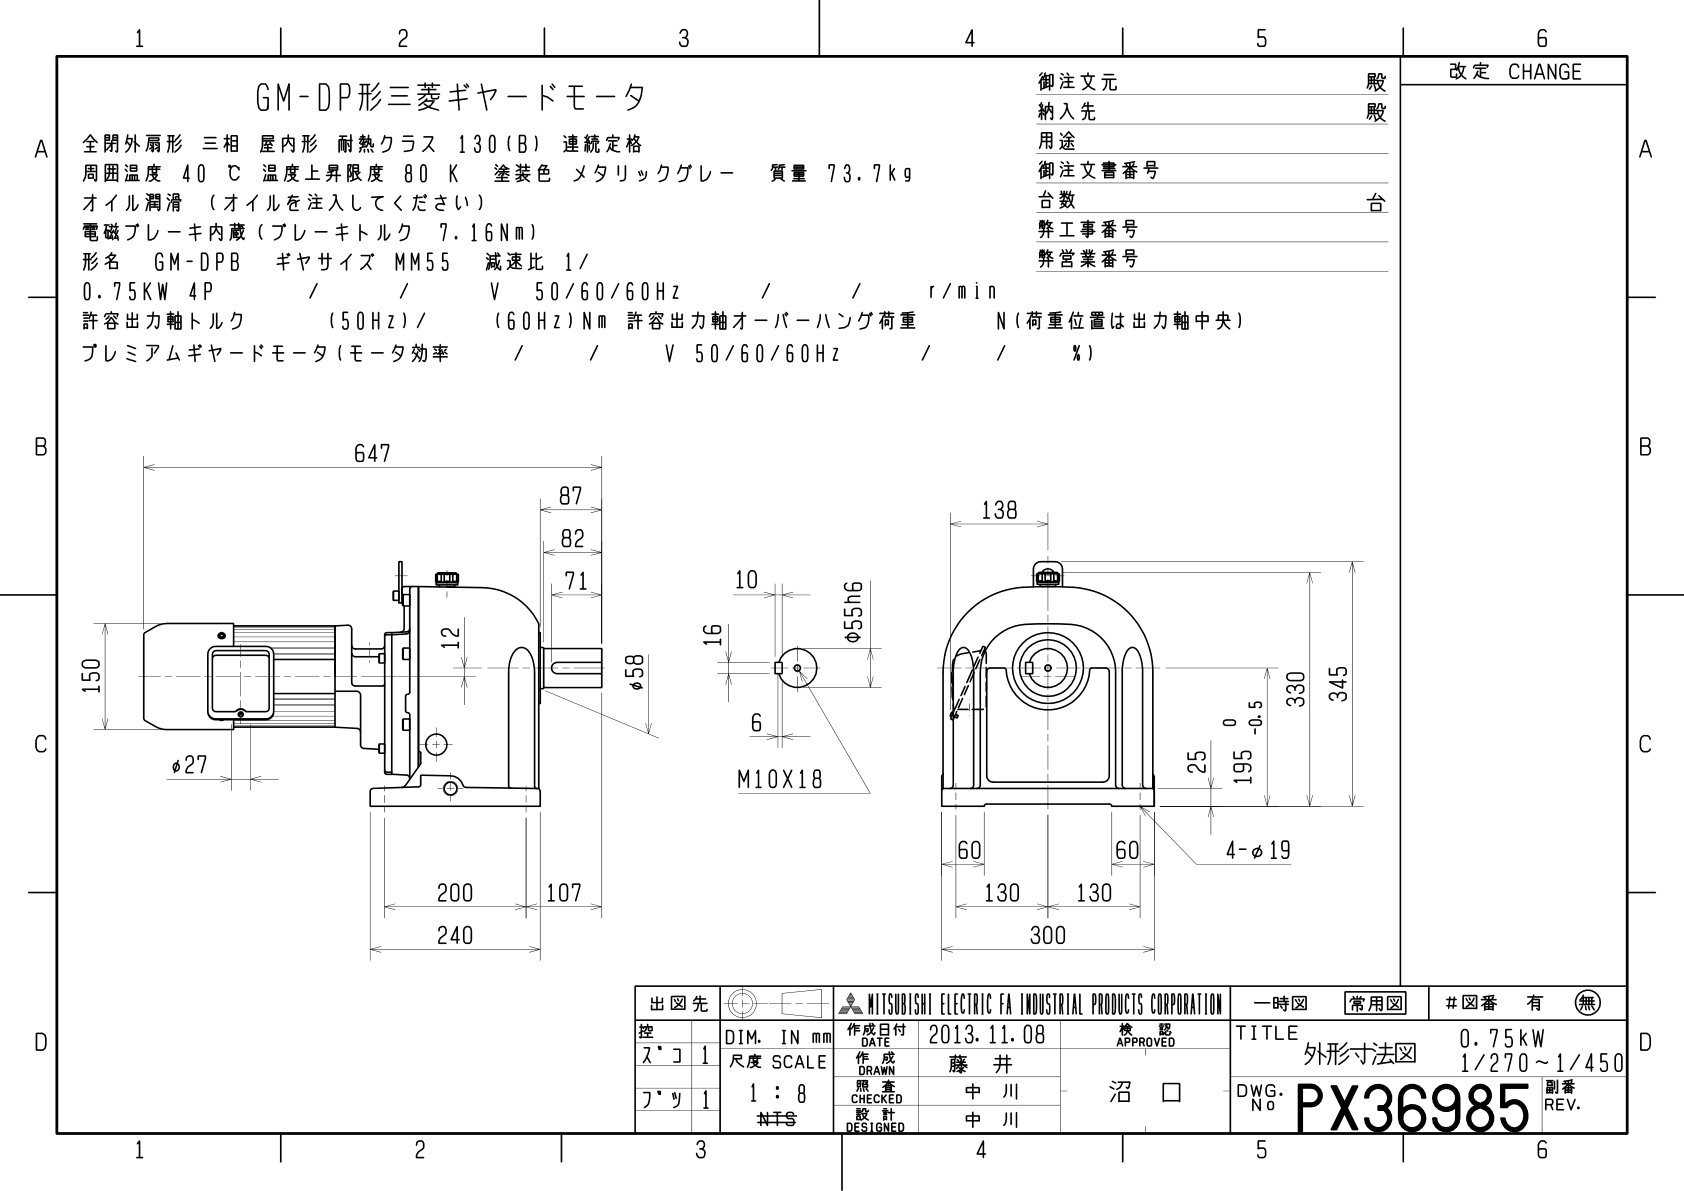GM_D_屋内＿三相_脚: (6, 10, 1684, 1191)
